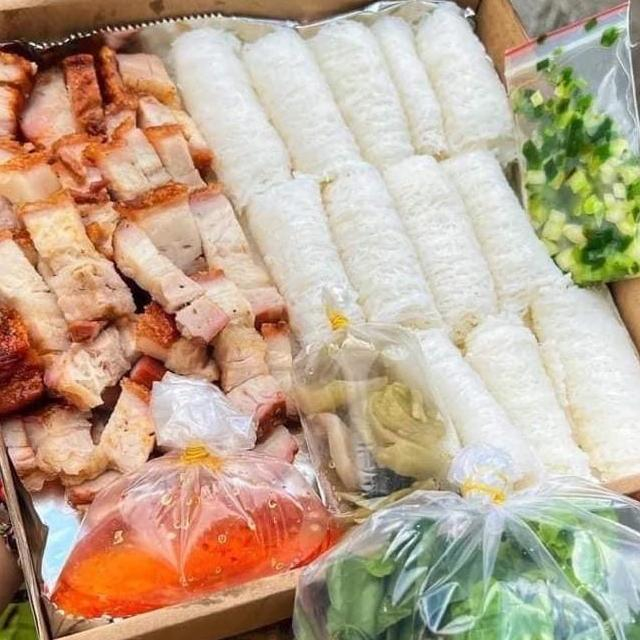banh hoi: (451, 304, 611, 492), (300, 156, 453, 344), (378, 316, 544, 484), (161, 22, 297, 220), (434, 142, 580, 324), (518, 273, 640, 485), (374, 146, 507, 334), (238, 172, 370, 352), (235, 21, 369, 186), (408, 0, 525, 171), (302, 14, 419, 176), (368, 14, 455, 164)
banh hoi heo quay: (0, 0, 640, 640)
thit heo quay: (0, 39, 318, 494)
